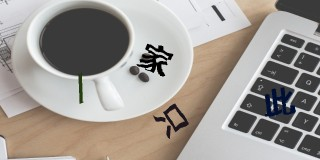一: (77, 72, 85, 105)
只: (153, 103, 189, 139)
家: (136, 43, 174, 77)
此: (263, 88, 297, 117)
